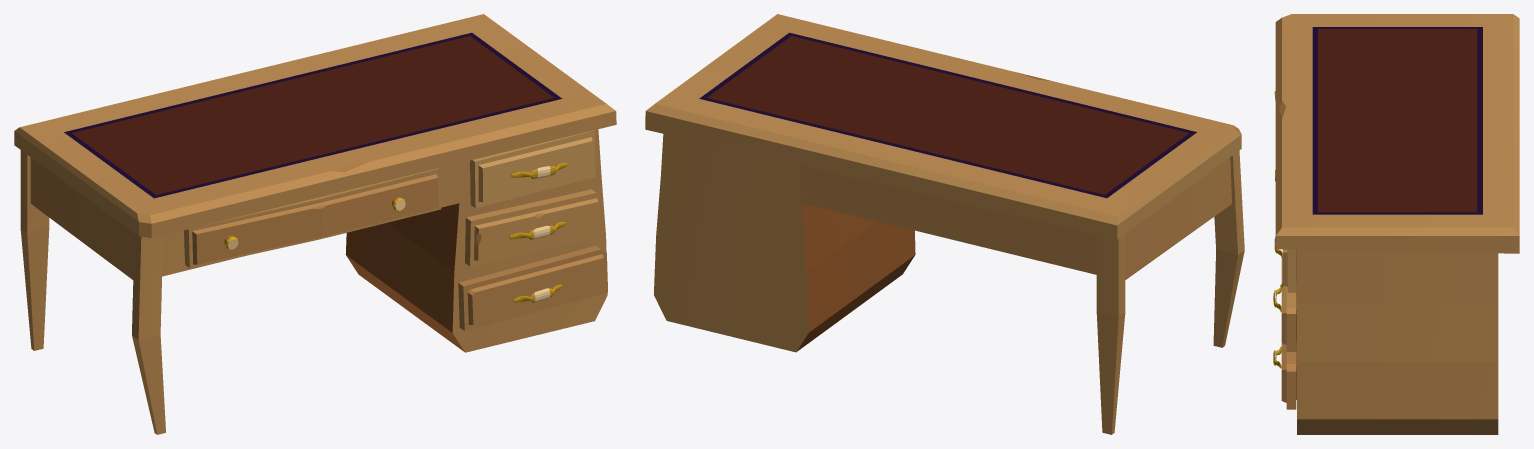
Rendered from museum_desk.fbx.
The picture shows the model from 3 angles, left to right: view 1: azimuth 30°, elevation 25°; view 2: azimuth 150°, elevation 25°; view 3: azimuth 270°, elevation 25°; orthographic projection. The views are drawn at different scales.
Visible parts, largest first — view 1: Desk, LongDrawer, BottomDraw, MiddleDraw, TopDrawer; view 2: Desk; view 3: Desk, MiddleDraw, BottomDraw, TopDrawer.
Boxes of the visible parts, left/top/right/bottom form: Desk: left=14, top=14, right=616, bottom=434; LongDrawer: left=184, top=168, right=441, bottom=268; BottomDraw: left=458, top=245, right=607, bottom=330; MiddleDraw: left=465, top=189, right=600, bottom=266; TopDrawer: left=470, top=130, right=595, bottom=208; Desk: left=645, top=14, right=1244, bottom=434; Desk: left=1275, top=14, right=1519, bottom=434; MiddleDraw: left=1273, top=259, right=1296, bottom=351; BottomDraw: left=1273, top=342, right=1296, bottom=409; TopDrawer: left=1274, top=236, right=1296, bottom=292.
Bounding box in the file's own units: 196 × 87.06 × 92.91.
